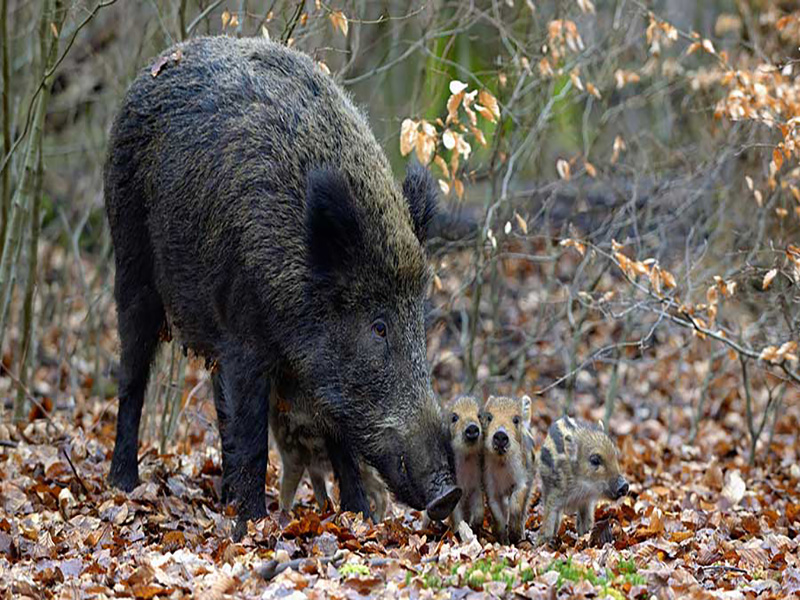cinghiale: (101, 45, 460, 529), (536, 405, 636, 539), (488, 390, 538, 530)
